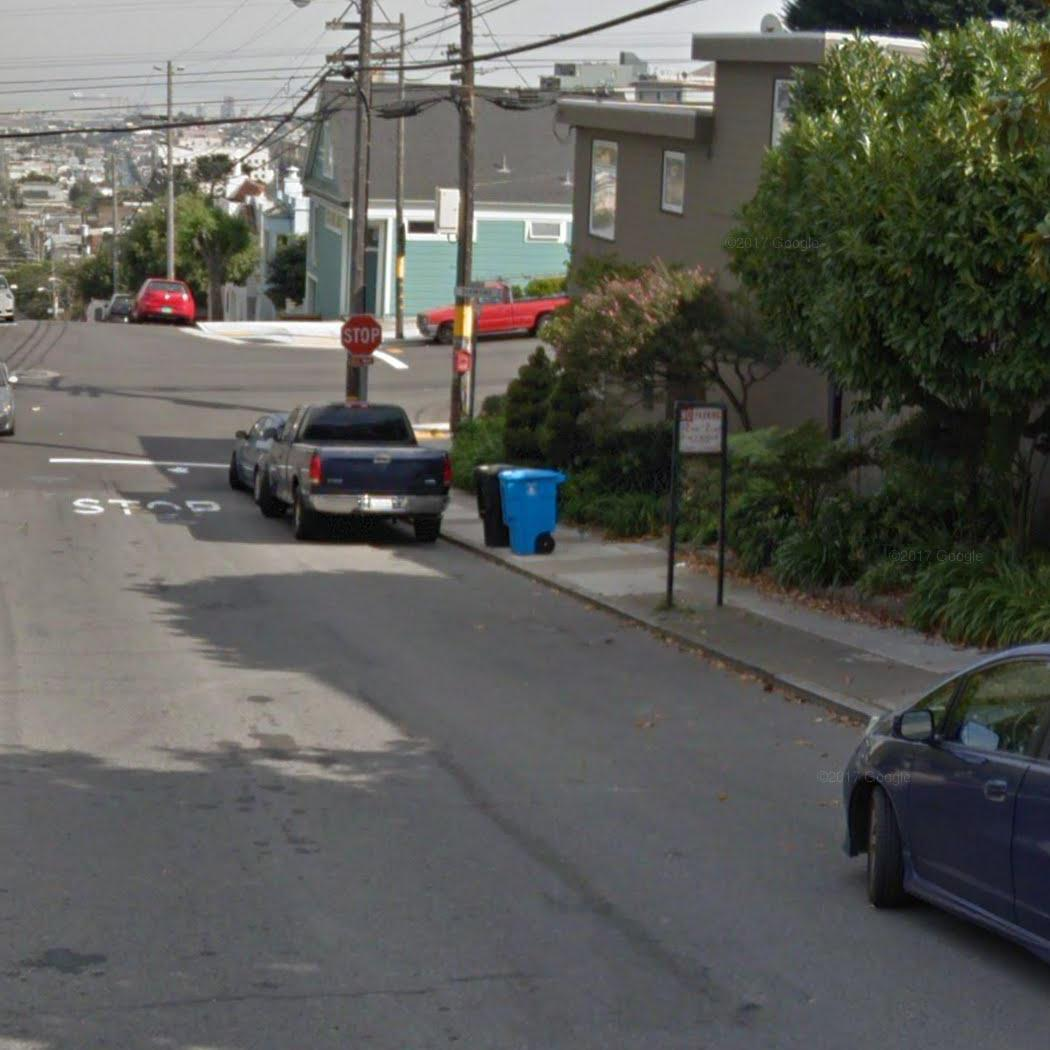No Parking: (675, 403, 729, 463)
